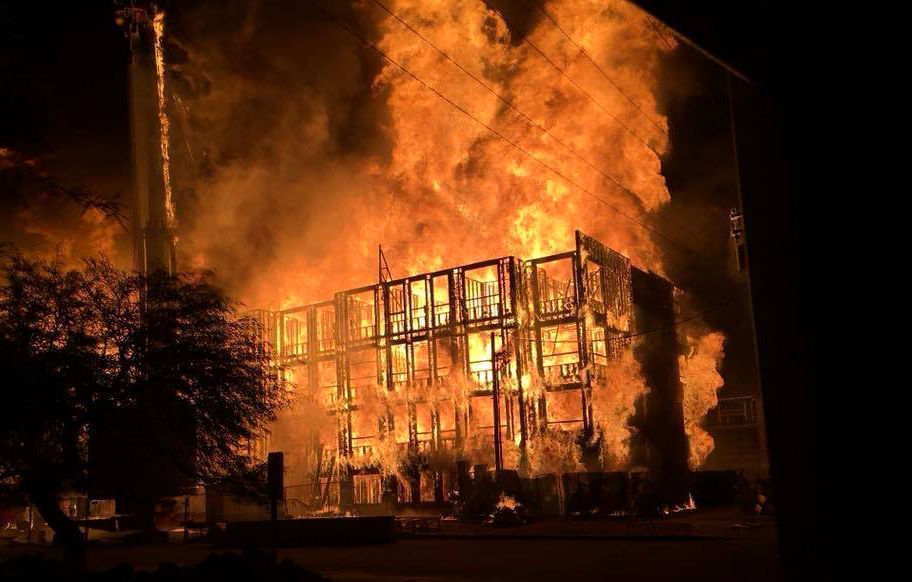Fire: (521, 5, 660, 233), (384, 18, 505, 174), (342, 355, 398, 479), (684, 322, 726, 474), (400, 229, 446, 317)
